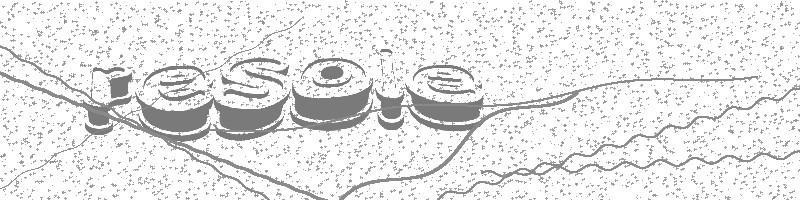e: (408, 61, 495, 139), (135, 64, 215, 142)
l: (373, 45, 411, 136)
o: (288, 55, 377, 140)
r: (84, 64, 133, 135)
s: (217, 56, 296, 152)
